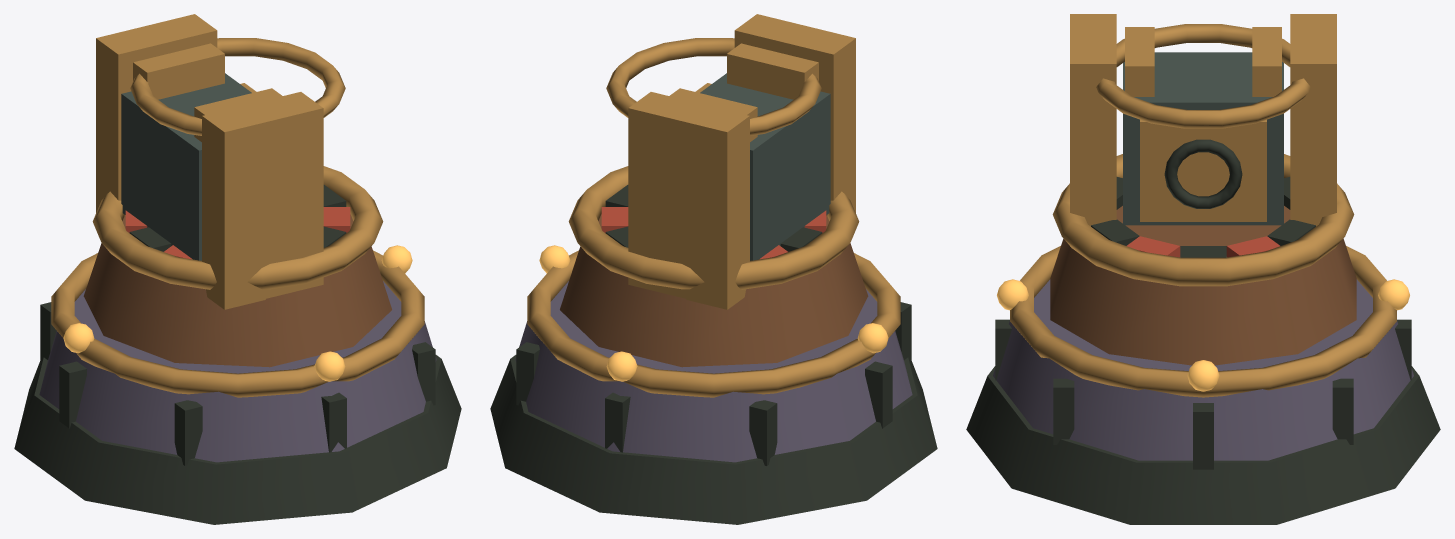
The model's file is tower_gamble_gambleBank_ultimate.glb.
3 renders of one model, left to right at view 1: azimuth 30°, elevation 25°; view 2: azimuth 150°, elevation 25°; view 3: azimuth 270°, elevation 25°, orthographic. The views are drawn at different scales.
Visible parts, largest first — view 1: foot_0, stone_1, bank_guard_34, table_15, rim_2, vault_29, roulette_rim_16, bank_guard_35, safe_halo_36, vault_crown_33, mortar_6, mortar_7 (+9 smaller); view 2: foot_0, stone_1, bank_guard_35, table_15, rim_2, vault_29, roulette_rim_16, bank_guard_34, safe_halo_36, vault_crown_32, mortar_8, mortar_7 (+9 smaller); view 3: foot_0, stone_1, table_15, rim_2, roulette_rim_16, vault_29, vault_door_30, bank_guard_34, bank_guard_35, safe_halo_36, safe_lock_31, vault_crown_32 (+14 smaller).
Part boxes in pixels (x1,y1,x2,y2): foot_0: (14, 355, 461, 524); stone_1: (39, 281, 436, 462); bank_guard_34: (202, 92, 323, 309); table_15: (83, 214, 391, 367); rim_2: (51, 250, 424, 397); vault_29: (121, 73, 251, 260); roulette_rim_16: (92, 166, 383, 289); bank_guard_35: (96, 14, 217, 215); safe_halo_36: (130, 38, 345, 135); vault_crown_33: (133, 43, 224, 99); mortar_6: (174, 400, 202, 465); mortar_7: (59, 361, 86, 428); foot_0: (490, 355, 937, 524); stone_1: (515, 281, 912, 462); bank_guard_35: (628, 92, 749, 309); table_15: (560, 214, 868, 367); rim_2: (527, 250, 900, 397); vault_29: (700, 73, 830, 260); roulette_rim_16: (568, 166, 859, 289); bank_guard_34: (734, 14, 855, 215); safe_halo_36: (606, 38, 821, 135); vault_crown_32: (727, 43, 818, 99); mortar_8: (749, 400, 777, 465); mortar_7: (865, 361, 892, 428); foot_0: (966, 366, 1440, 524); stone_1: (993, 279, 1413, 460); table_15: (1050, 206, 1356, 365); rim_2: (1010, 246, 1396, 397); roulette_rim_16: (1052, 154, 1354, 286); vault_29: (1123, 52, 1283, 225); vault_door_30: (1140, 119, 1266, 221); bank_guard_34: (1070, 14, 1116, 246); bank_guard_35: (1290, 14, 1336, 246); safe_halo_36: (1096, 24, 1310, 128); safe_lock_31: (1164, 139, 1242, 208); vault_crown_32: (1125, 27, 1154, 96).
Size of the model in its own units: 0.5326 by 0.49 by 0.56.
